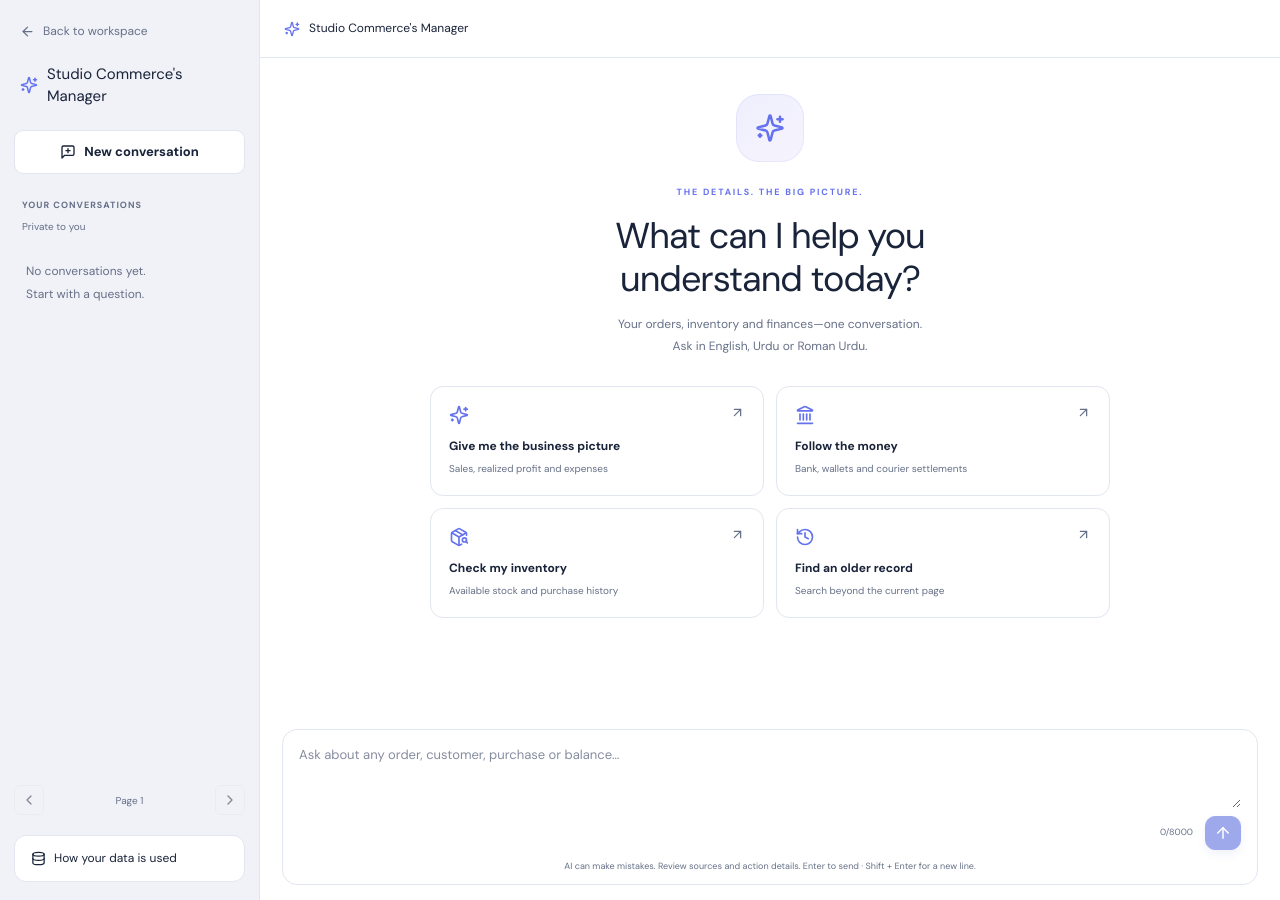
renders provider HTML as text and rejects external source links
The width and height of the screenshot is (1280, 900).
Type "Find an order" into the text box named "Ask your Manager" at (770, 775), box [299, 742, 1241, 808]
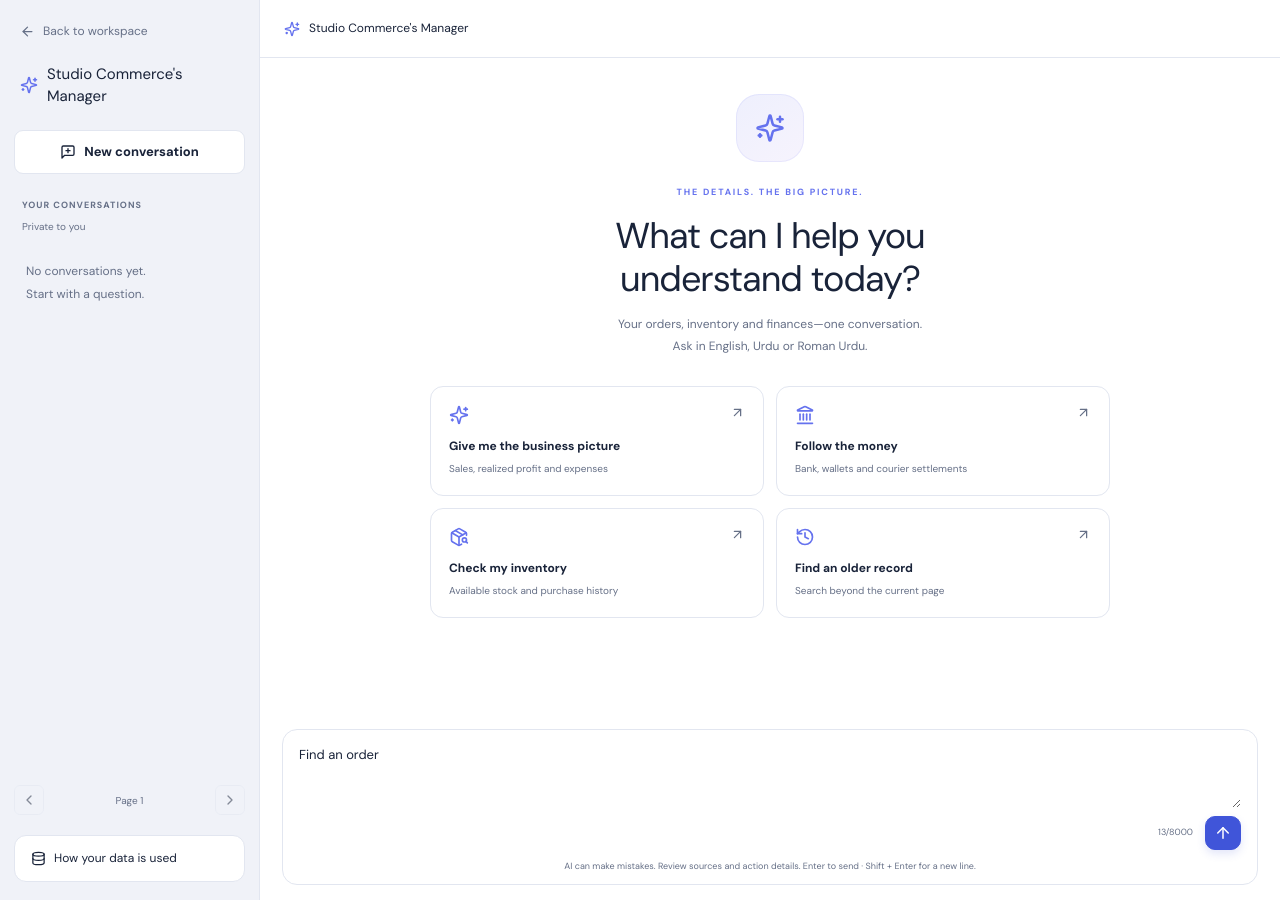
Click the button named "Send message" at (1223, 833), box [1205, 816, 1241, 850]
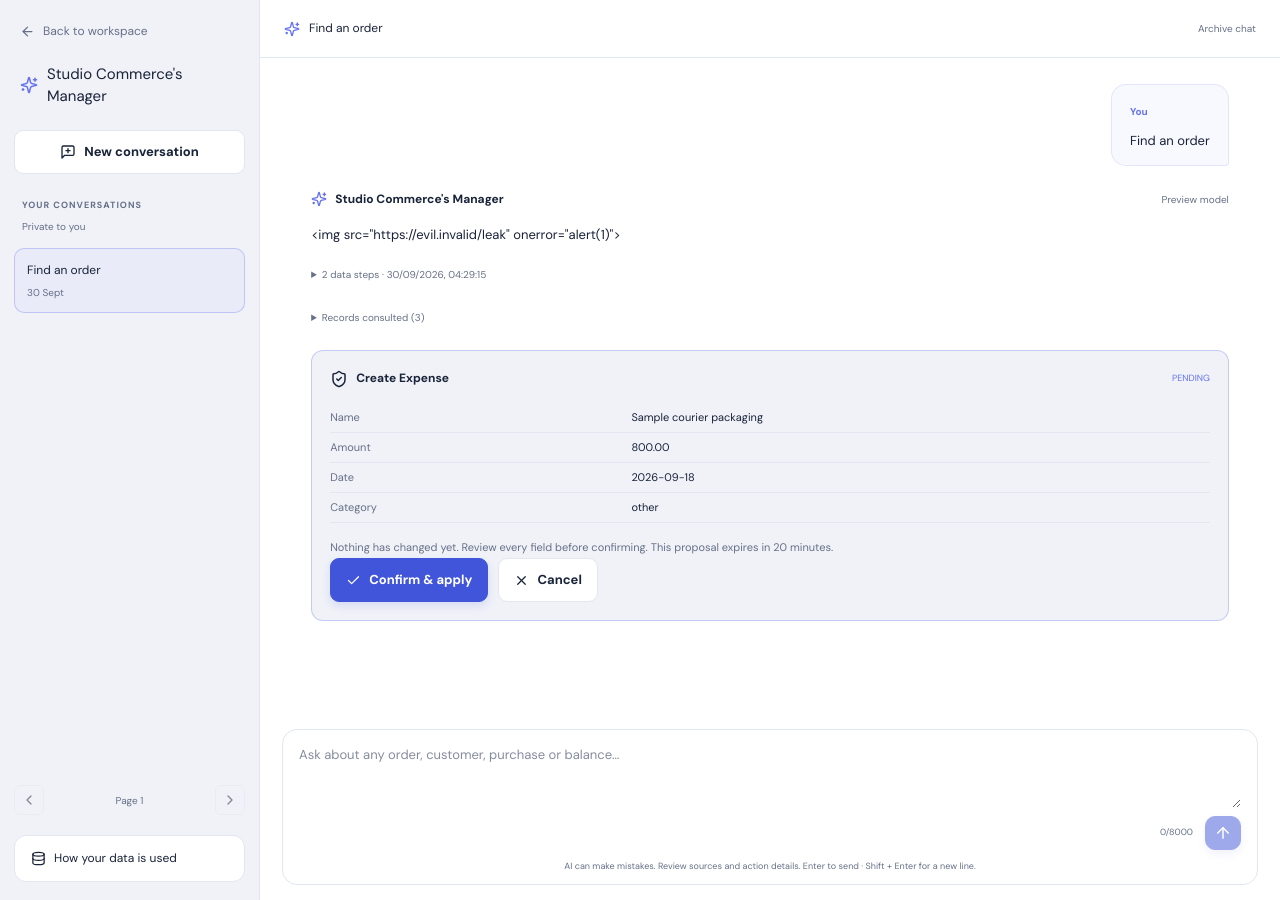
Expected: the text "<img src=\"https://evil.invalid/leak\" onerror=\"alert(1)\">" is shown, [311, 226, 621, 243]
